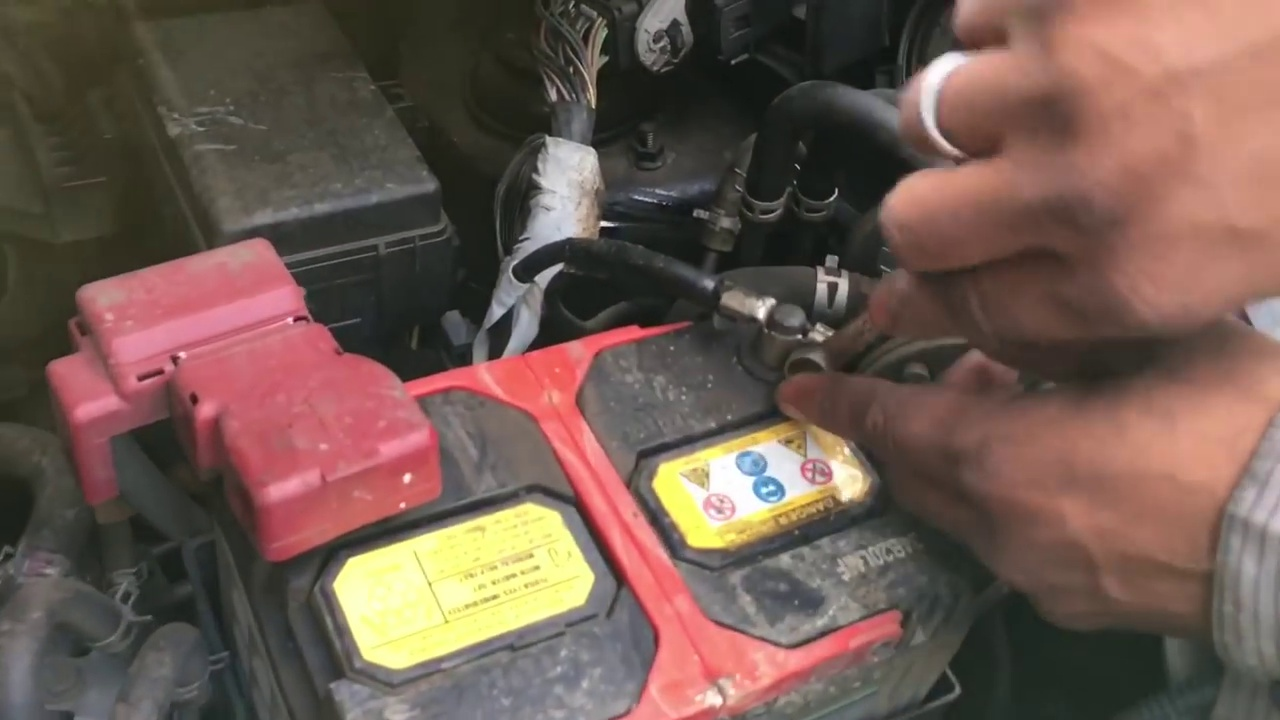battery: (122, 261, 991, 720)
neg_connected: (612, 241, 807, 348)
neg_touched: (721, 164, 1009, 505)
pos_connected: (125, 296, 453, 585)
